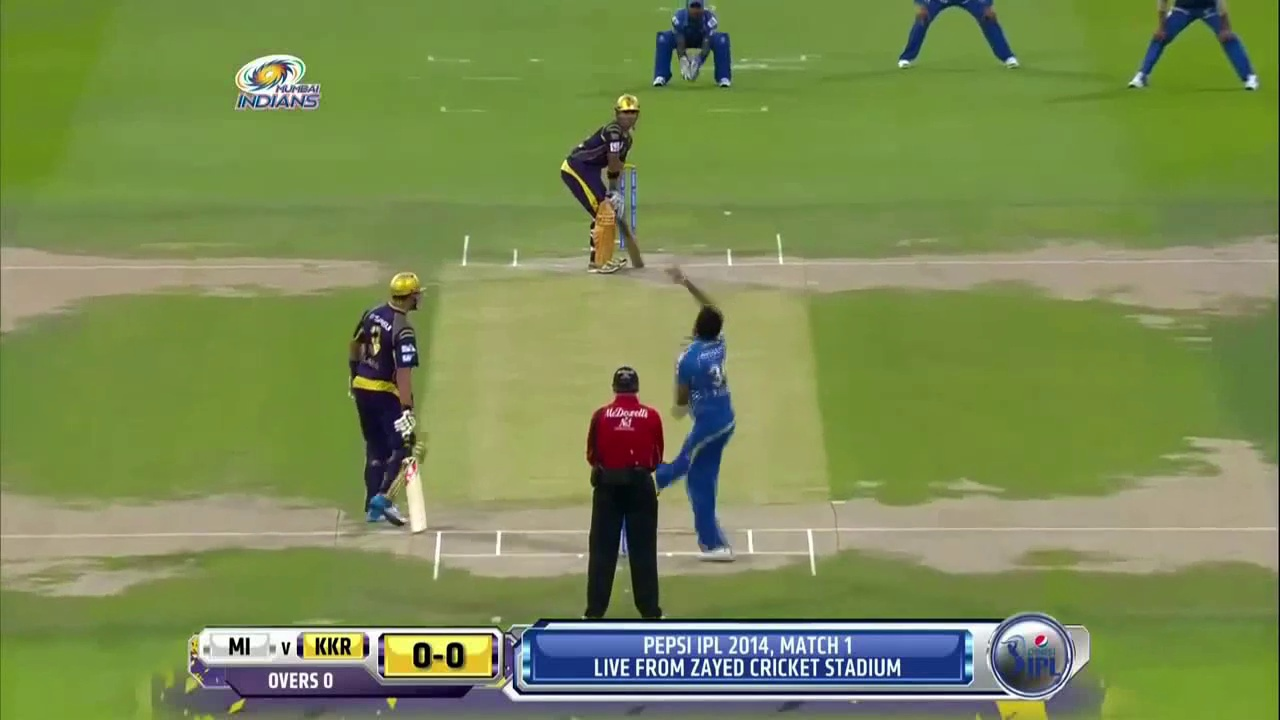bat: (399, 456, 428, 535), (619, 220, 644, 269)
